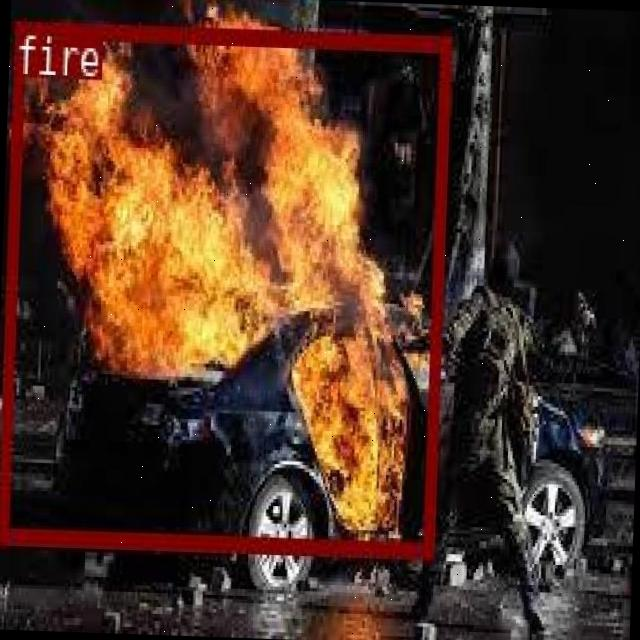fire: (0, 19, 449, 556)
